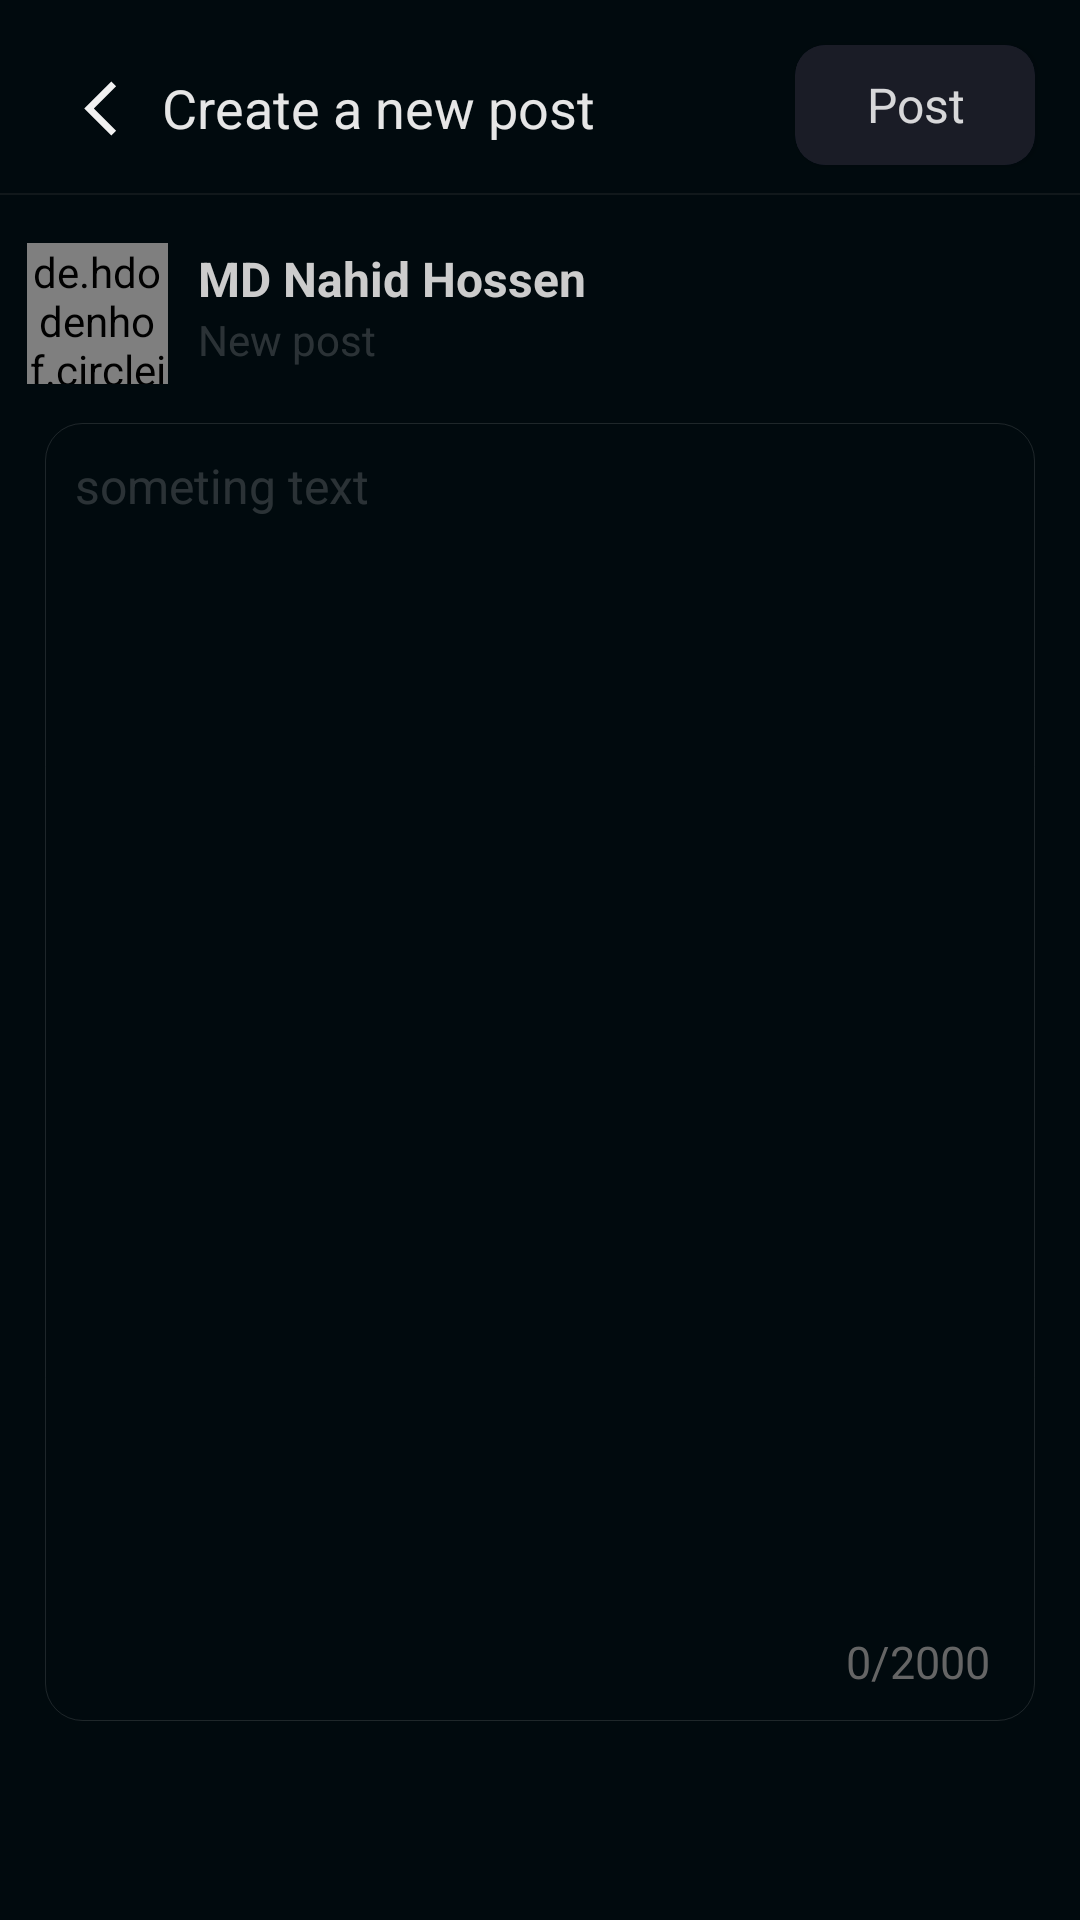

Where icons sit on this 1080×1920 app screen, as bbox=(x1, y1, x2, y2):
arrow back: bbox=(84, 81, 116, 136)
